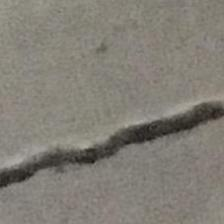Crack: (0, 101, 224, 199)
